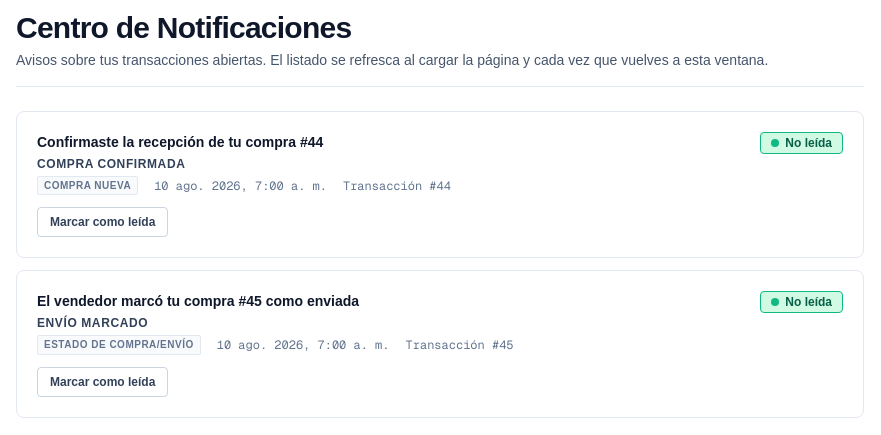
it: PanelCentroNotificaciones — notificaciones accionables (PHA12TSK05) › (c) click en la notificación marca leida vía PATCH y navega al destino (PATCH antes que push)
The width and height of the screenshot is (881, 435).
Expected: the text "No leída" is shown 2 times, [760, 132, 843, 154]; [760, 291, 843, 313]
Click the 1st link at (440, 185), box [16, 111, 864, 258]
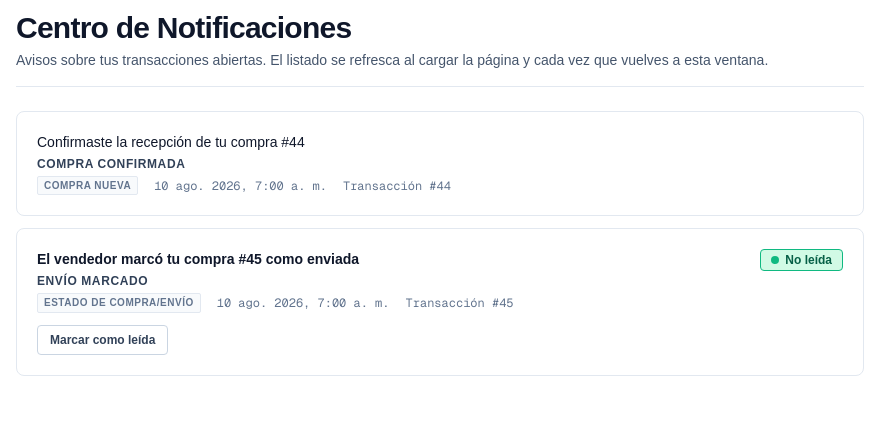
# Accesibilidad teclado: Enter sobre otra fila dispara el mismo flujo completo.
Press Enter in the 2nd link, box [16, 228, 864, 376]
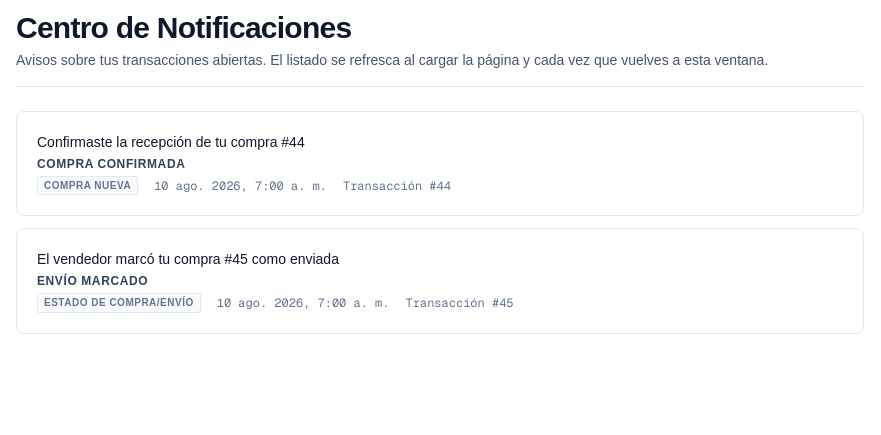
Expected: the text "No leída" is gone
